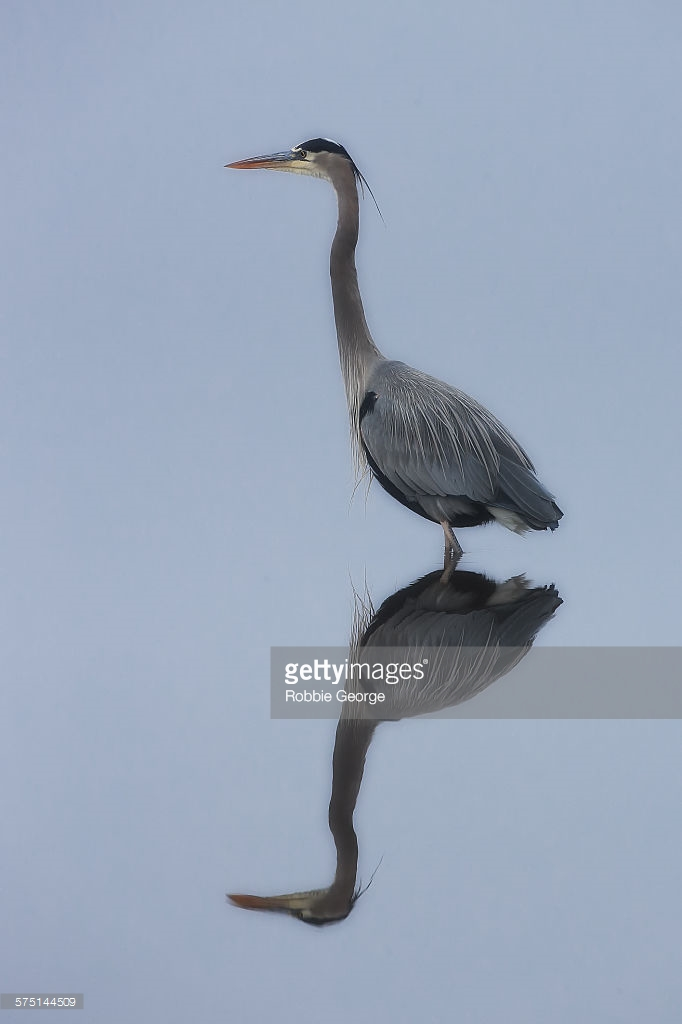heron: (224, 130, 566, 571)
